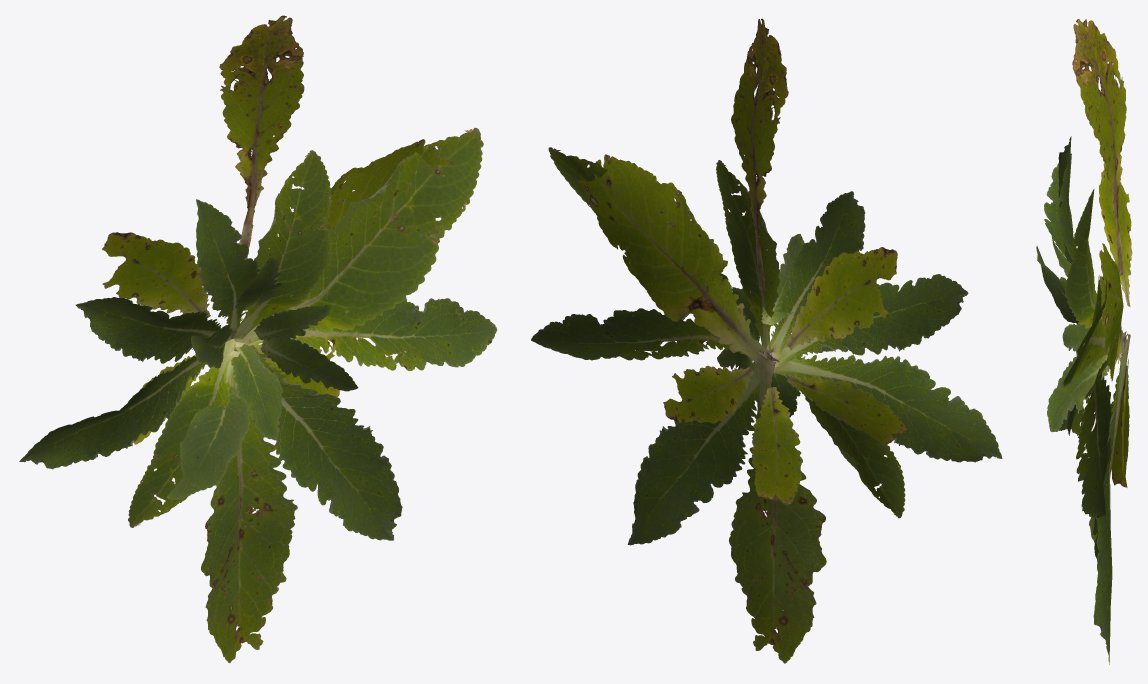
Rendered from Weed_01_Var1_LOD1.fbx.
3 renders of one model, left to right at view 1: azimuth 30°, elevation 25°; view 2: azimuth 150°, elevation 25°; view 3: azimuth 270°, elevation 25°, orthographic. The views are drawn at different scales.
Parts seen in each view (by area): view 1: Var1_LOD1; view 2: Var1_LOD1; view 3: Var1_LOD1.
Boxes of the visible parts, box(x1,y1,x2,y2) form: Var1_LOD1: box(19, 15, 497, 663); Var1_LOD1: box(531, 18, 1002, 663); Var1_LOD1: box(1036, 19, 1132, 664).
Size of the model in its own units: 39.39 by 50.35 by 6.72.
